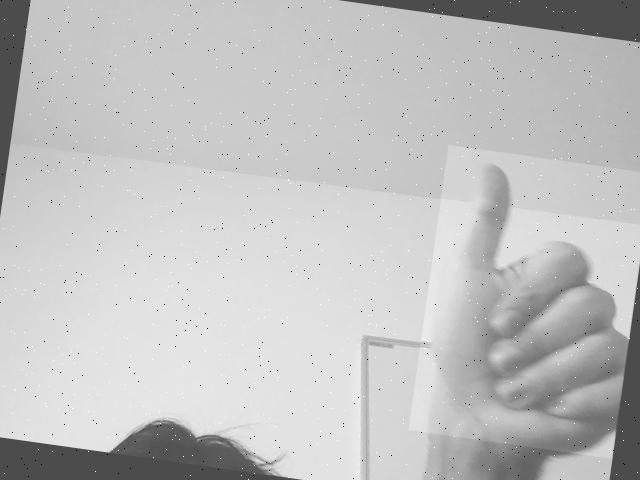good: (426, 151, 628, 454)
